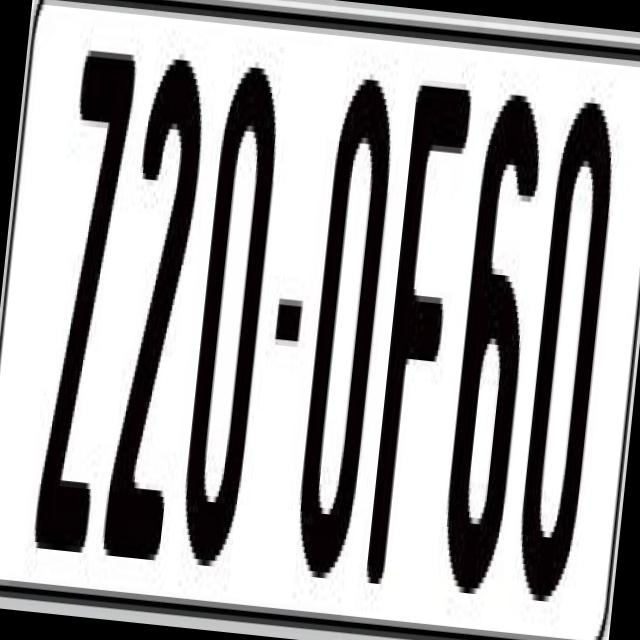0: (507, 82, 626, 616), (294, 59, 409, 564), (174, 53, 283, 568)
2: (98, 44, 218, 584)
6: (430, 80, 544, 618)
F: (363, 84, 478, 589)
Z: (30, 31, 138, 558)
